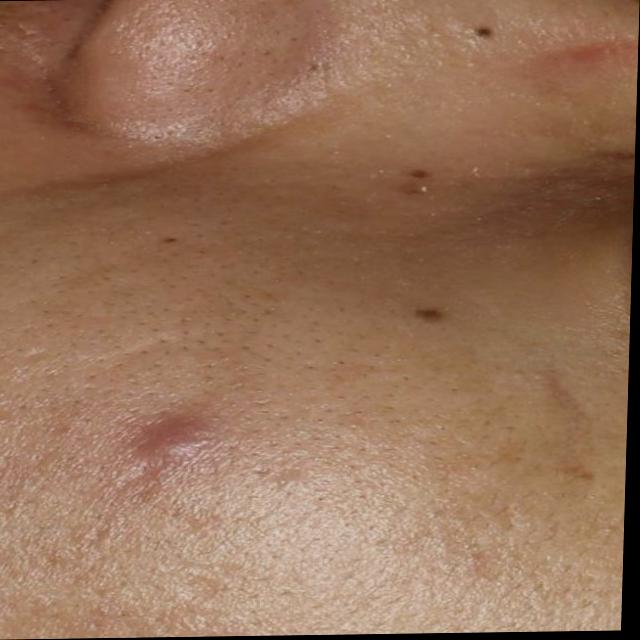dark spot: (410, 297, 454, 331), (464, 23, 498, 46)
